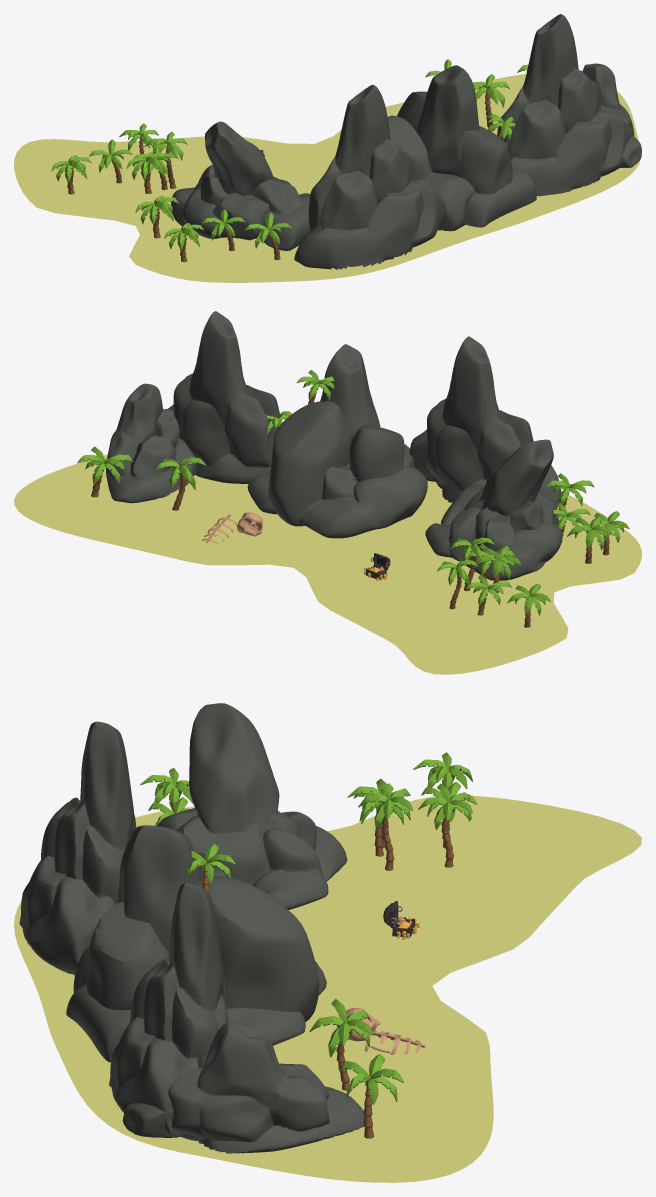
The model's file is Gameboard-6.glb.
The picture shows the model from 3 angles, top to bottom: view 1: azimuth 30°, elevation 25°; view 2: azimuth 150°, elevation 25°; view 3: azimuth 270°, elevation 25°; orthographic projection. The views are drawn at different scales.
Parts seen in each view (by area): view 1: Circle, Environment_Cliff3, Environment_Cliff3.001, Environment_Cliff2, Environment_Cliff4, Environment_Cliff3.002, Environment_PalmTree_3.004, Environment_PalmTree_1.006, Environment_PalmTree_2.004, Environment_PalmTree_1.002, Environment_PalmTree_3.002, Environment_PalmTree_3.003 (+6 smaller); view 2: Circle, Environment_Cliff2, Environment_Cliff3.001, Environment_Cliff3, Environment_Cliff4, Environment_Cliff3.002, Environment_PalmTree_2.006, Environment_PalmTree_1.006, Environment_PalmTree_3.004, Environment_PalmTree_3, Environment_PalmTree_3.002, Environment_PalmTree_2.004 (+5 smaller); view 3: Circle, Environment_Cliff2, Environment_Cliff4, Environment_Cliff3.002, Environment_Cliff3, Environment_Cliff3.001, Environment_PalmTree_1.006, Environment_PalmTree_2.006, Environment_PalmTree_1.002, Environment_PalmTree_1, Environment_PalmTree_3, Environment_PalmTree_3.003 (+2 smaller).
Boxes of the visible parts, <box> form: Circle: <box>14,74,640,282</box>; Environment_Cliff3: <box>294,84,445,269</box>; Environment_Cliff3.001: <box>497,14,633,196</box>; Environment_Cliff2: <box>387,65,536,231</box>; Environment_Cliff4: <box>171,121,310,250</box>; Environment_Cliff3.002: <box>582,63,641,167</box>; Environment_PalmTree_3.004: <box>135,195,178,238</box>; Environment_PalmTree_1.006: <box>472,74,509,131</box>; Environment_PalmTree_2.004: <box>244,212,291,260</box>; Environment_PalmTree_1.002: <box>144,131,187,188</box>; Environment_PalmTree_3.002: <box>126,151,169,193</box>; Environment_PalmTree_3.003: <box>164,222,204,262</box>; Circle: <box>14,454,641,674</box>; Environment_Cliff2: <box>247,344,427,538</box>; Environment_Cliff3.001: <box>168,311,281,483</box>; Environment_Cliff3: <box>409,336,561,506</box>; Environment_Cliff4: <box>425,439,562,580</box>; Environment_Cliff3.002: <box>106,383,196,503</box>; Environment_PalmTree_2.006: <box>77,446,133,497</box>; Environment_PalmTree_1.006: <box>155,457,206,510</box>; Environment_PalmTree_3.004: <box>567,516,613,563</box>; Environment_PalmTree_3: <box>507,583,550,627</box>; Environment_PalmTree_3.002: <box>474,546,521,593</box>; Environment_PalmTree_2.004: <box>546,473,594,516</box>; Circle: <box>14,795,641,1182</box>; Environment_Cliff2: <box>66,825,326,1062</box>; Environment_Cliff4: <box>157,703,347,909</box>; Environment_Cliff3.002: <box>122,1022,364,1153</box>; Environment_Cliff3: <box>19,721,135,975</box>; Environment_Cliff3.001: <box>109,883,228,1137</box>; Environment_PalmTree_1.006: <box>309,999,372,1090</box>; Environment_PalmTree_2.006: <box>339,1054,403,1138</box>; Environment_PalmTree_1.002: <box>358,779,412,870</box>; Environment_PalmTree_1: <box>418,783,472,867</box>; Environment_PalmTree_3: <box>413,752,472,788</box>; Environment_PalmTree_3.003: <box>140,767,193,812</box>.
Size of what is drawn, in the model's own units: 42.31 by 12.08 by 28.9.
4 materials, 3 textured.
